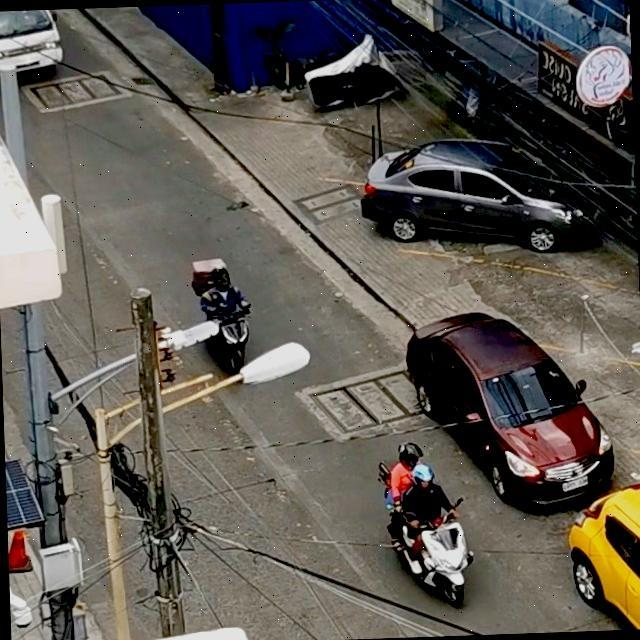Motorcycle: (376, 449, 470, 604), (180, 259, 286, 384)
